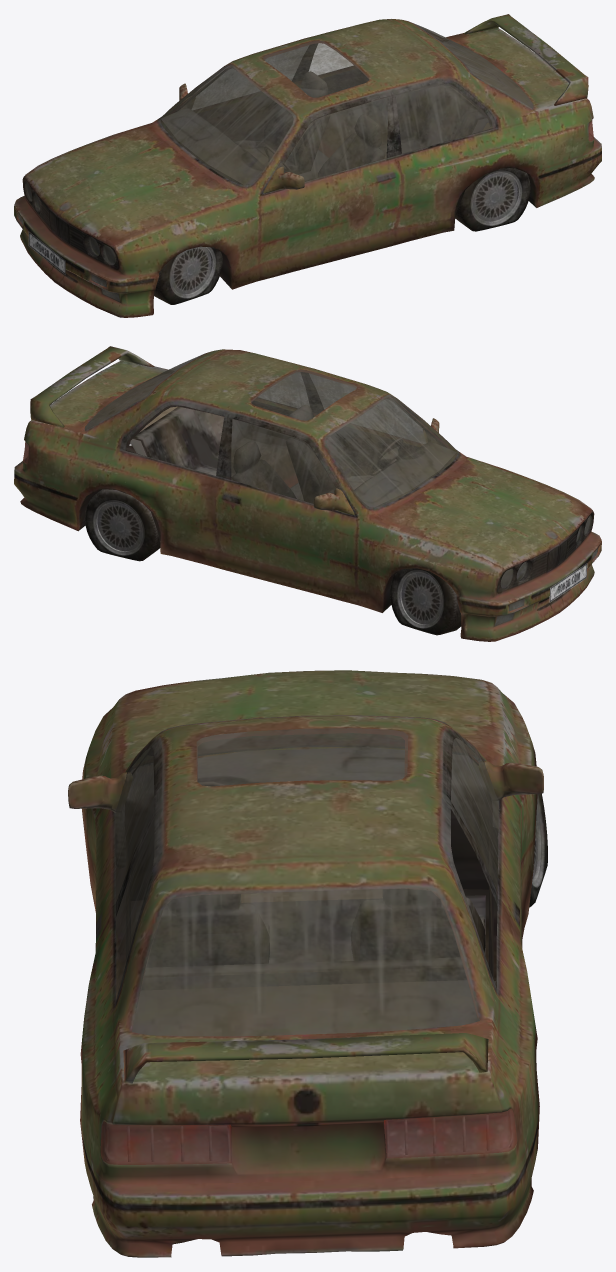
The model's file is s_rustcar.glb.
3 views of the same model, one above another, from view 1: azimuth 30°, elevation 25°; view 2: azimuth 150°, elevation 25°; view 3: azimuth 270°, elevation 25° (orthographic). The views are drawn at different scales.
Visible parts, largest first — view 1: Object_2; view 2: Object_2; view 3: Object_2.
Part boxes in pixels (bbox=[...]): Object_2: bbox=[14, 14, 601, 317]; Object_2: bbox=[14, 346, 601, 641]; Object_2: bbox=[68, 670, 547, 1257].
Size of the model in its own units: 4326 by 1295 by 1760.
Materials: 1 (1 with a texture image).
